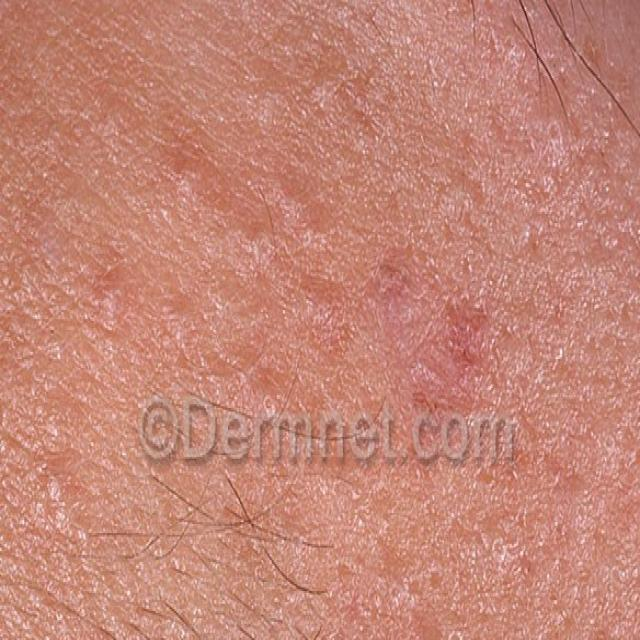Acne: (63, 52, 265, 231), (379, 238, 542, 401), (12, 419, 108, 578), (512, 69, 640, 185), (51, 265, 158, 365)
